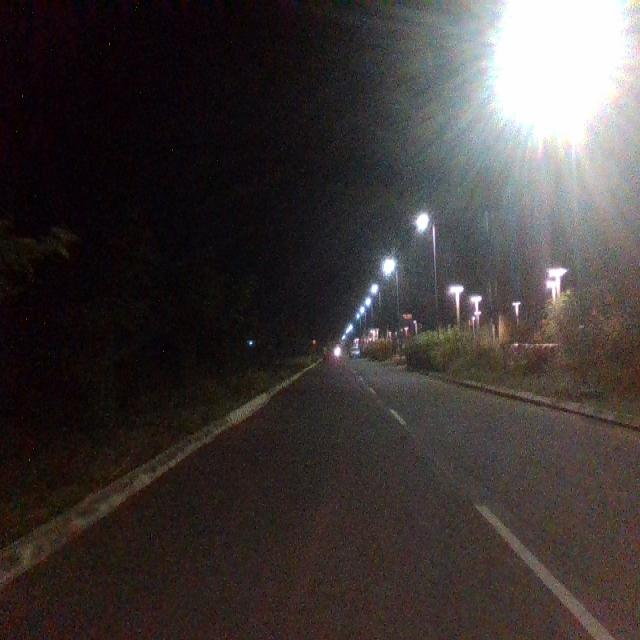lane: (0, 361, 596, 640)
